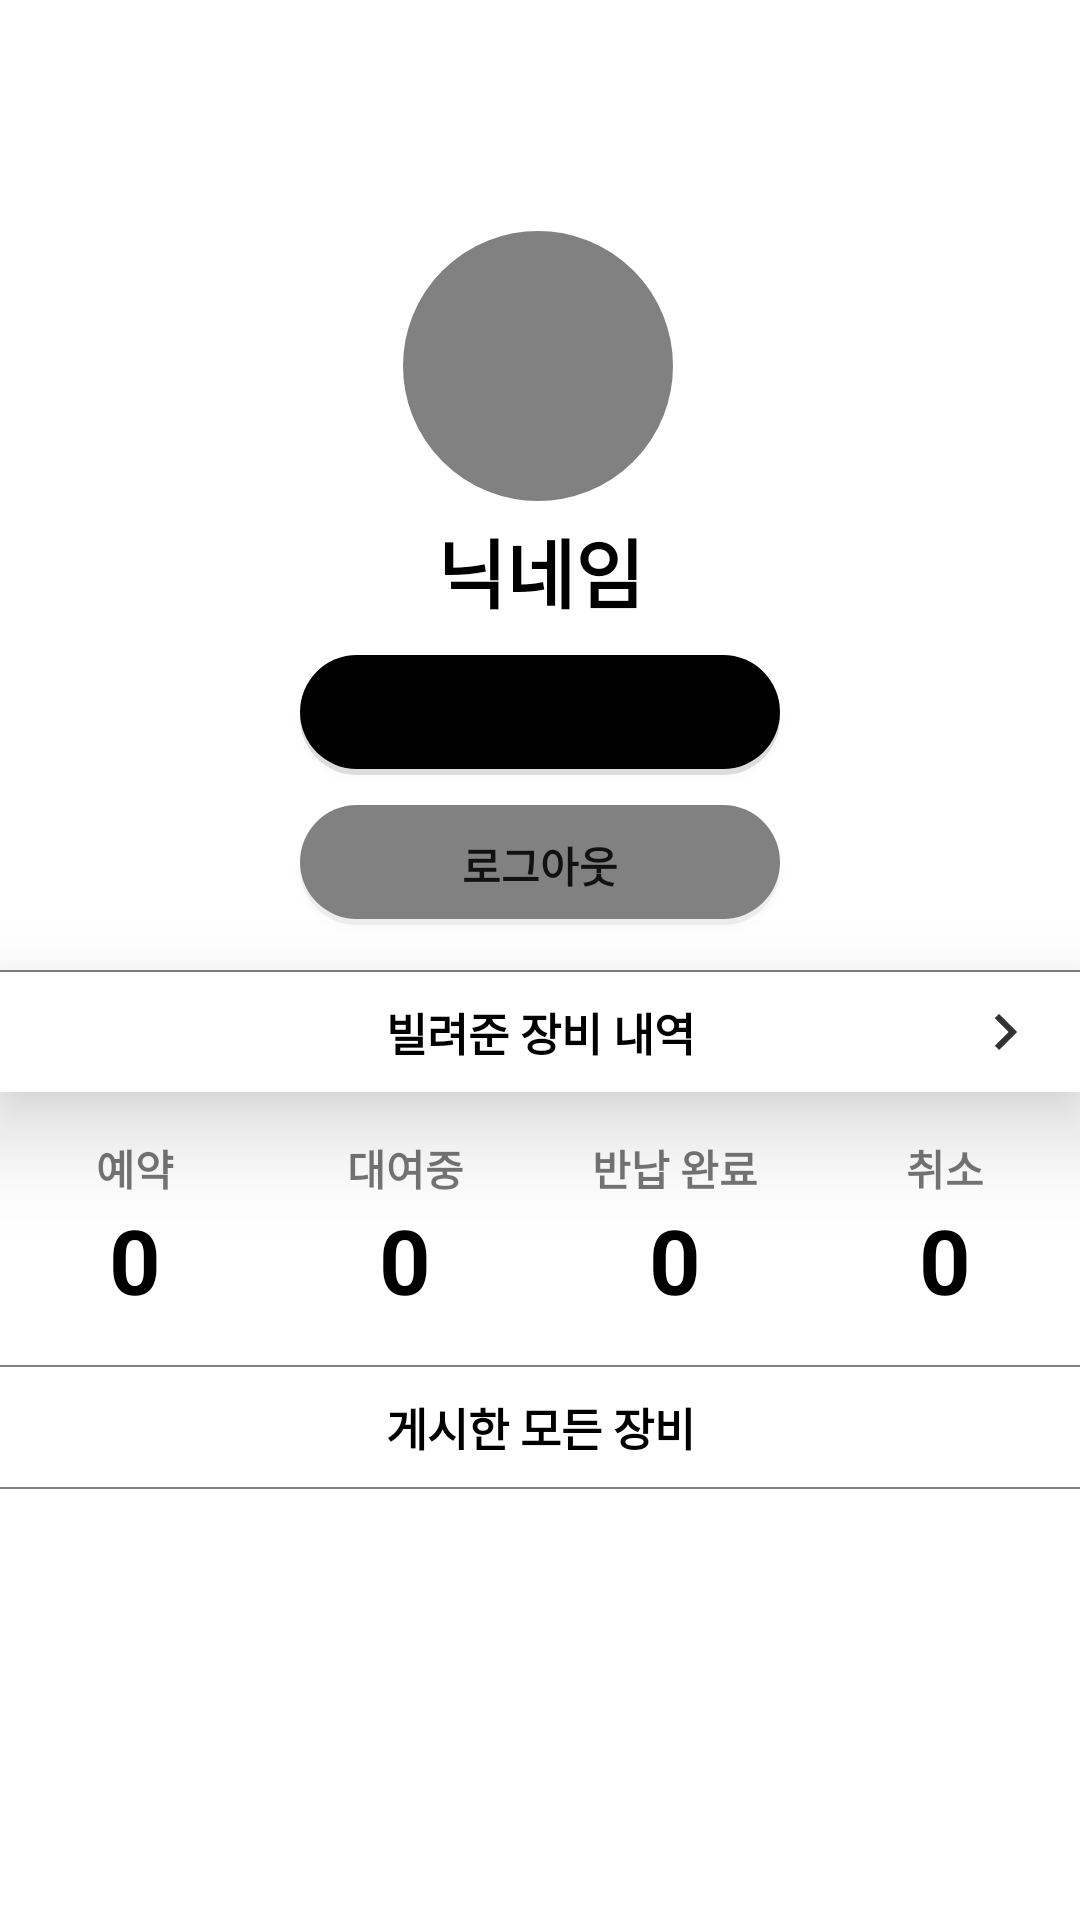

Icons on this 1080w x 1920h Android screen, each with the point to tap as [x,y]:
arrow: [1006,1032]
